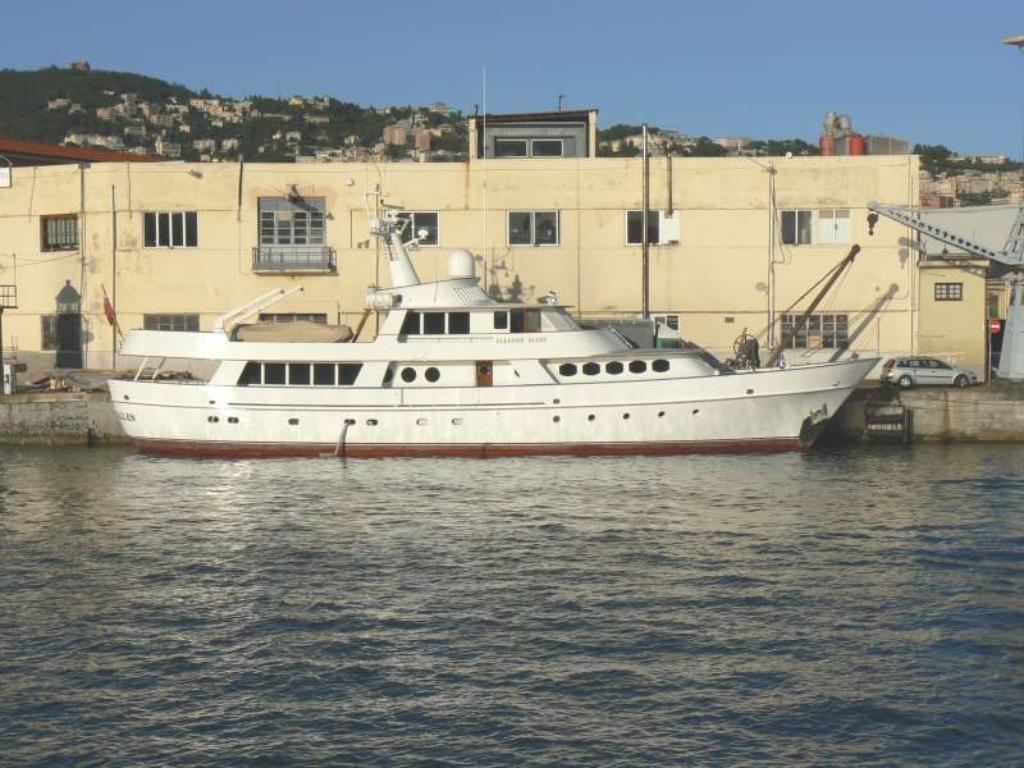PassengerShip: (99, 205, 881, 457)
